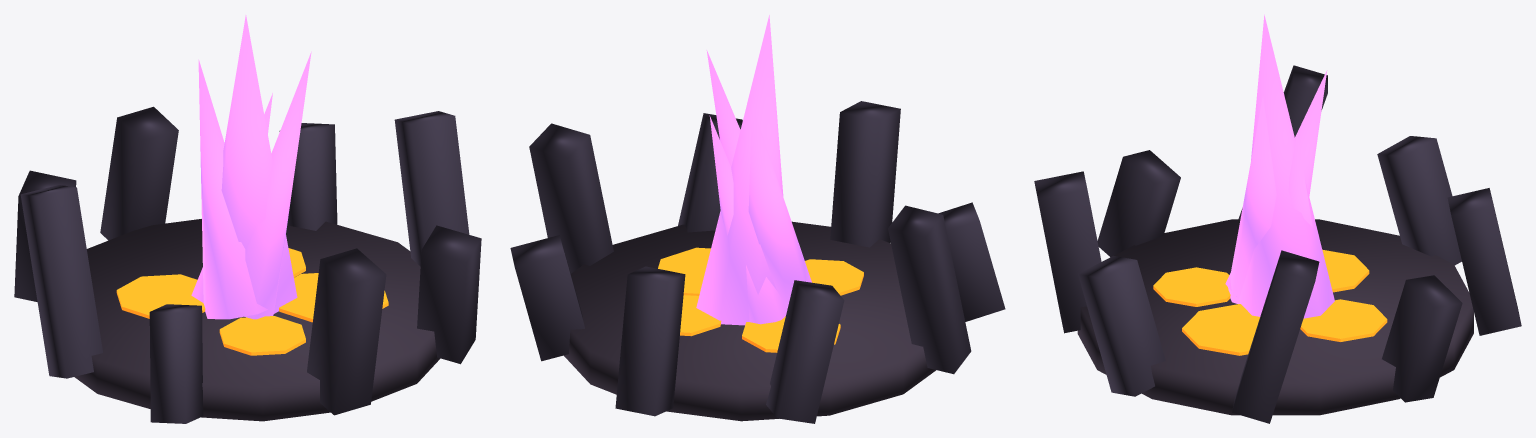
Rendered from rescoldo_giza.glb.
3 renders of one model, left to right at view 1: azimuth 30°, elevation 25°; view 2: azimuth 150°, elevation 25°; view 3: azimuth 270°, elevation 25°, orthographic. The views are drawn at different scales.
Visible parts, largest first — view 1: Rescoldo_Ceniza, Rescoldo_Monolito_6, Rescoldo_Monolito_4, Rescoldo_LlamaGiza_0, Rescoldo_Monolito_2, Rescoldo_Monolito_0, Rescoldo_LlamaGiza_1, Rescoldo_Monolito_3, Rescoldo_Monolito_5, Rescoldo_LlamaGiza_2, Rescoldo_Monolito_1, Rescoldo_Brasa_2 (+3 smaller); view 2: Rescoldo_Ceniza, Rescoldo_LlamaGiza_0, Rescoldo_Monolito_6, Rescoldo_Monolito_4, Rescoldo_Monolito_0, Rescoldo_Monolito_2, Rescoldo_Monolito_7, Rescoldo_Monolito_1, Rescoldo_LlamaGiza_1, Rescoldo_Monolito_5, Rescoldo_Monolito_3, Rescoldo_LlamaGiza_3 (+5 smaller); view 3: Rescoldo_Ceniza, Rescoldo_LlamaGiza_0, Rescoldo_Monolito_3, Rescoldo_Monolito_2, Rescoldo_Monolito_7, Rescoldo_Monolito_1, Rescoldo_Monolito_4, Rescoldo_Monolito_0, Rescoldo_Monolito_5, Rescoldo_LlamaGiza_2, Rescoldo_Brasa_1, Rescoldo_Brasa_3 (+5 smaller).
Part boxes in pixels (<box>): Rescoldo_Ceniza: <box>74,219,440,421</box>; Rescoldo_Monolito_6: <box>20,185,102,378</box>; Rescoldo_Monolito_4: <box>307,248,386,415</box>; Rescoldo_LlamaGiza_0: <box>221,15,297,313</box>; Rescoldo_Monolito_2: <box>394,111,469,266</box>; Rescoldo_Monolito_0: <box>100,106,178,240</box>; Rescoldo_LlamaGiza_1: <box>198,59,274,319</box>; Rescoldo_Monolito_3: <box>417,225,481,364</box>; Rescoldo_Monolito_5: <box>149,304,203,423</box>; Rescoldo_LlamaGiza_2: <box>244,51,311,319</box>; Rescoldo_Monolito_1: <box>279,123,337,230</box>; Rescoldo_Brasa_2: <box>219,316,305,355</box>; Rescoldo_Ceniza: <box>564,221,936,421</box>; Rescoldo_LlamaGiza_0: <box>696,15,783,325</box>; Rescoldo_Monolito_6: <box>888,205,971,374</box>; Rescoldo_Monolito_4: <box>830,101,900,247</box>; Rescoldo_Monolito_0: <box>615,266,685,416</box>; Rescoldo_Monolito_2: <box>529,123,613,273</box>; Rescoldo_Monolito_7: <box>766,280,844,423</box>; Rescoldo_Monolito_1: <box>510,235,584,361</box>; Rescoldo_LlamaGiza_1: <box>748,104,811,308</box>; Rescoldo_Monolito_5: <box>938,202,1005,321</box>; Rescoldo_Monolito_3: <box>678,113,742,232</box>; Rescoldo_LlamaGiza_3: <box>709,115,787,324</box>; Rescoldo_Ceniza: <box>1077,219,1473,415</box>; Rescoldo_LlamaGiza_0: <box>1238,14,1334,318</box>; Rescoldo_Monolito_3: <box>1078,255,1165,396</box>; Rescoldo_Monolito_2: <box>1232,250,1319,423</box>; Rescoldo_Monolito_7: <box>1377,136,1461,265</box>; Rescoldo_Monolito_1: <box>1382,275,1462,402</box>; Rescoldo_Monolito_4: <box>1034,171,1101,333</box>; Rescoldo_Monolito_0: <box>1447,188,1521,335</box>; Rescoldo_Monolito_5: <box>1097,150,1180,256</box>; Rescoldo_LlamaGiza_2: <box>1228,96,1276,303</box>; Rescoldo_Brasa_1: <box>1182,304,1259,355</box>; Rescoldo_Brasa_3: <box>1300,299,1387,341</box>.
Bounding box in the file's own units: 1.27 × 0.9683 × 1.35.
